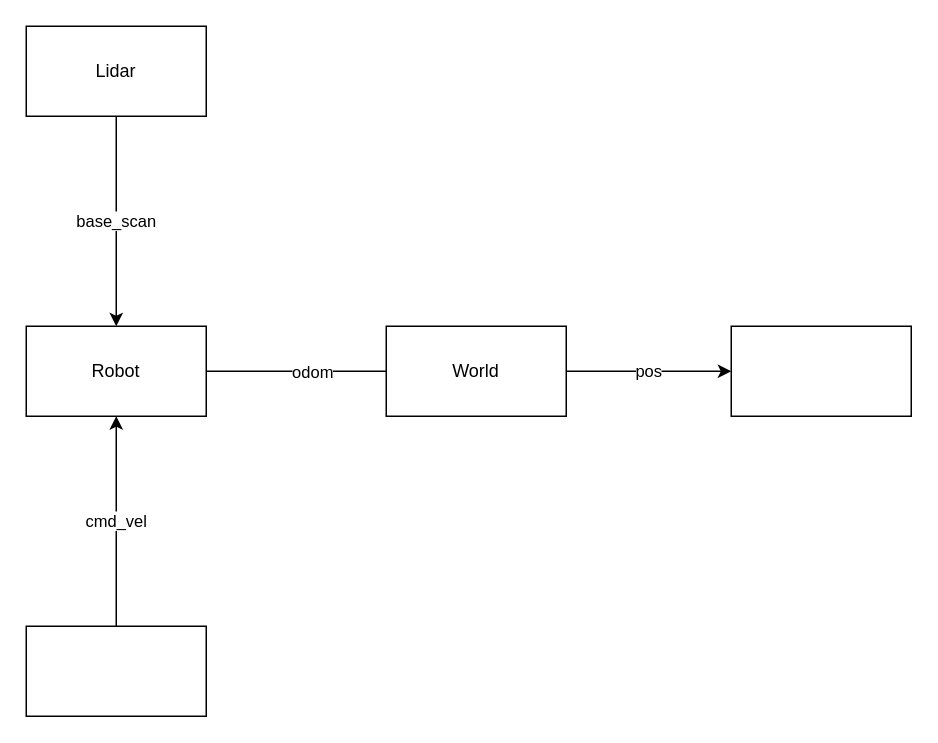
The diagram is 938 pixels wide and 743 high, and some of its shapes have lost their labels. Here are the shapes that lost their labels. From the top down, the centre of each, then its label:
the point at 820,370: RViz
the point at 115,670: RobotKeys
